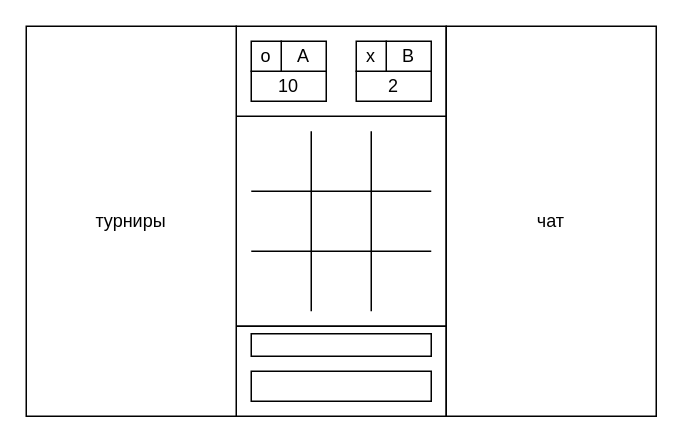
Some shapes in this 683 by 443 pixel diagram are drawn without their labels. The centre of each missing label's shape, as x and y in pixels:
"Еще" goes at point 340,385.
"Ход A" goes at point 340,344.
